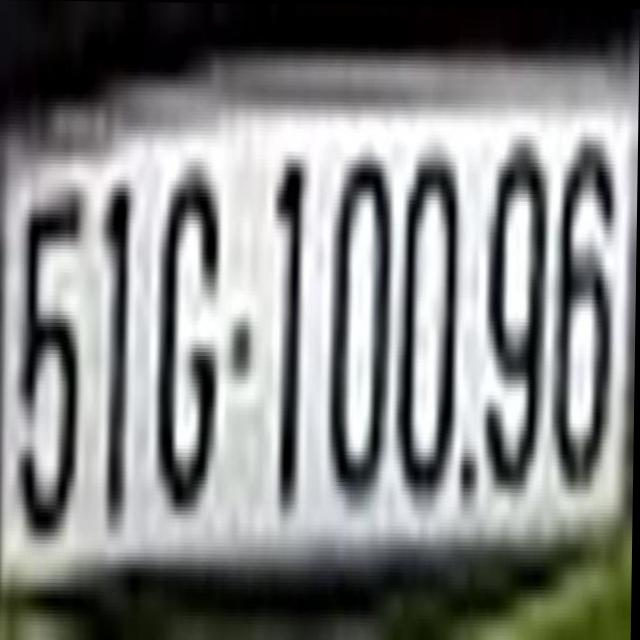0: (327, 132, 391, 498), (399, 140, 458, 506)
1: (267, 135, 304, 531), (96, 183, 132, 522)
5: (16, 183, 83, 532)
6: (555, 135, 614, 492)
9: (481, 134, 543, 491)
G: (154, 149, 223, 503)
